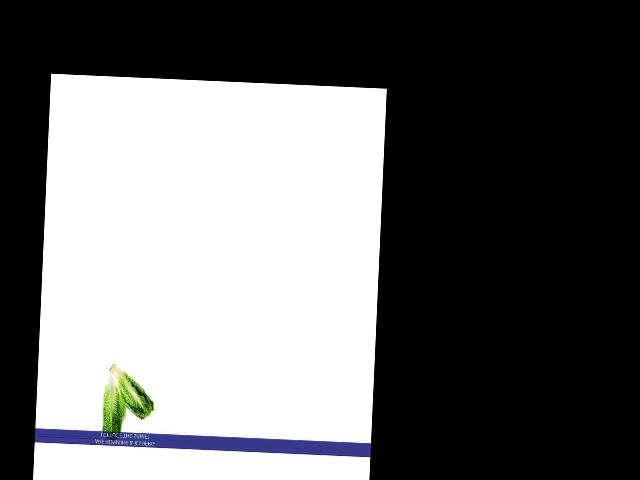lettuce: (104, 363, 154, 424)
